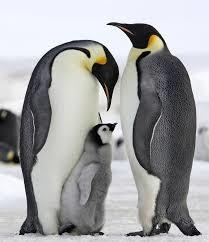emporer: (101, 9, 209, 241), (14, 22, 118, 239)
